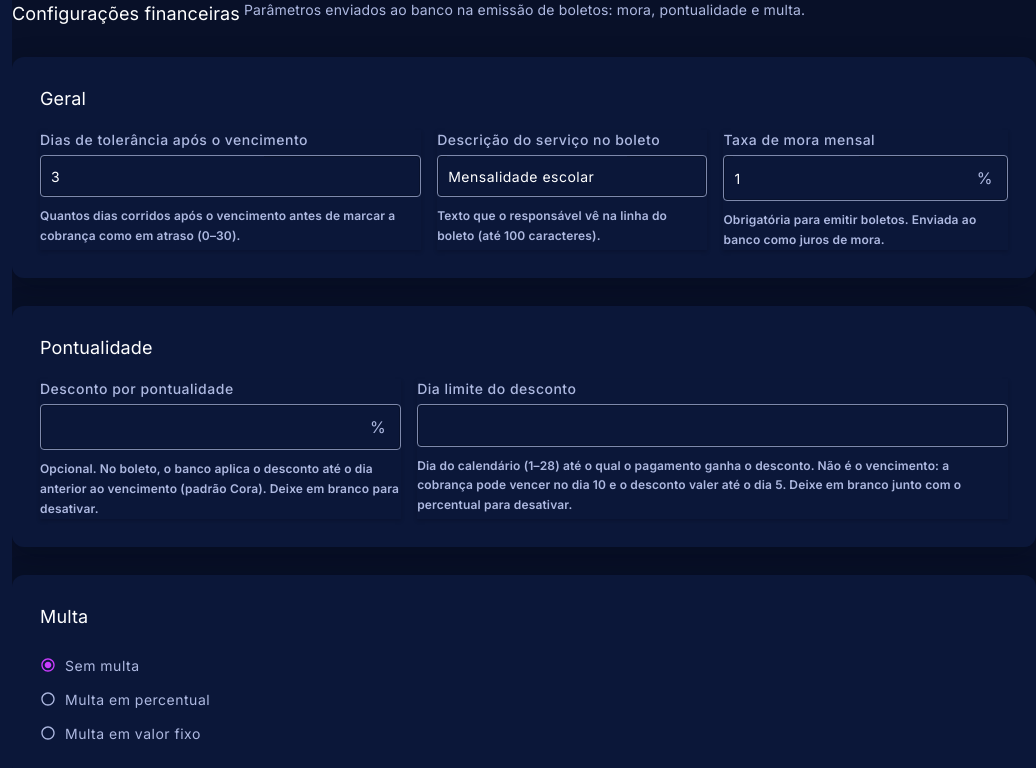
Scenario: BillingSettingsPage › shows validation errors from the API
Click the radio button labelled "Multa em percentual" at (125, 700), box [40,691,210,708]
(page scrolled)
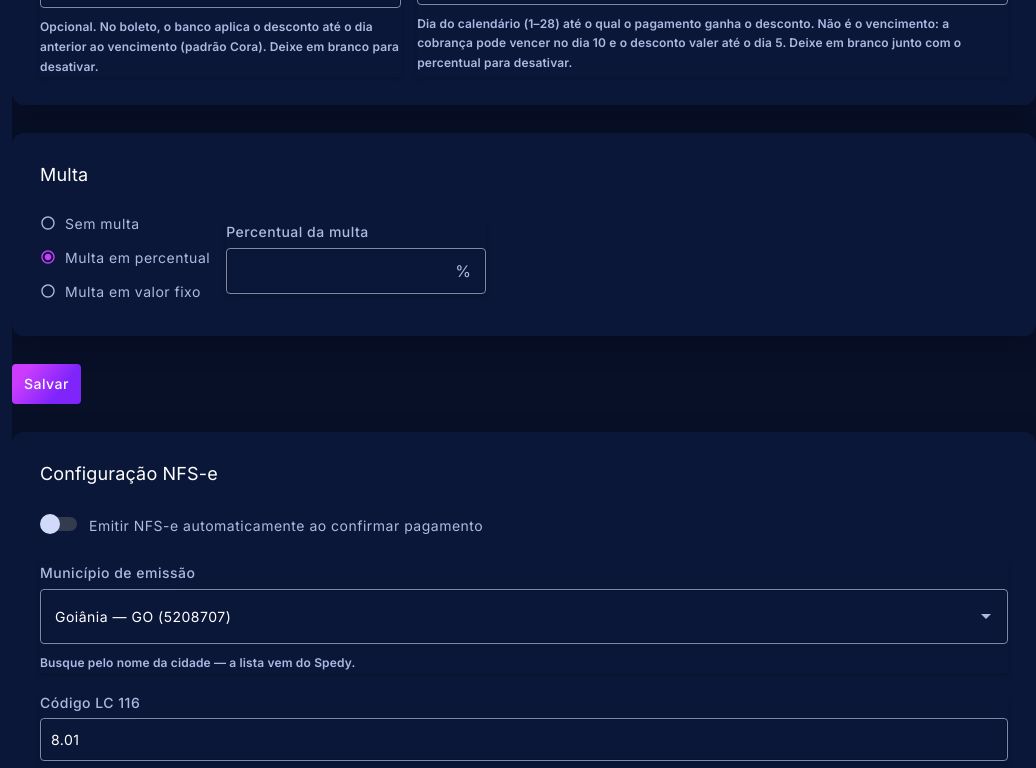
Click the button "Salvar" at (46, 384), box [12,364,81,404]
(page scrolled)
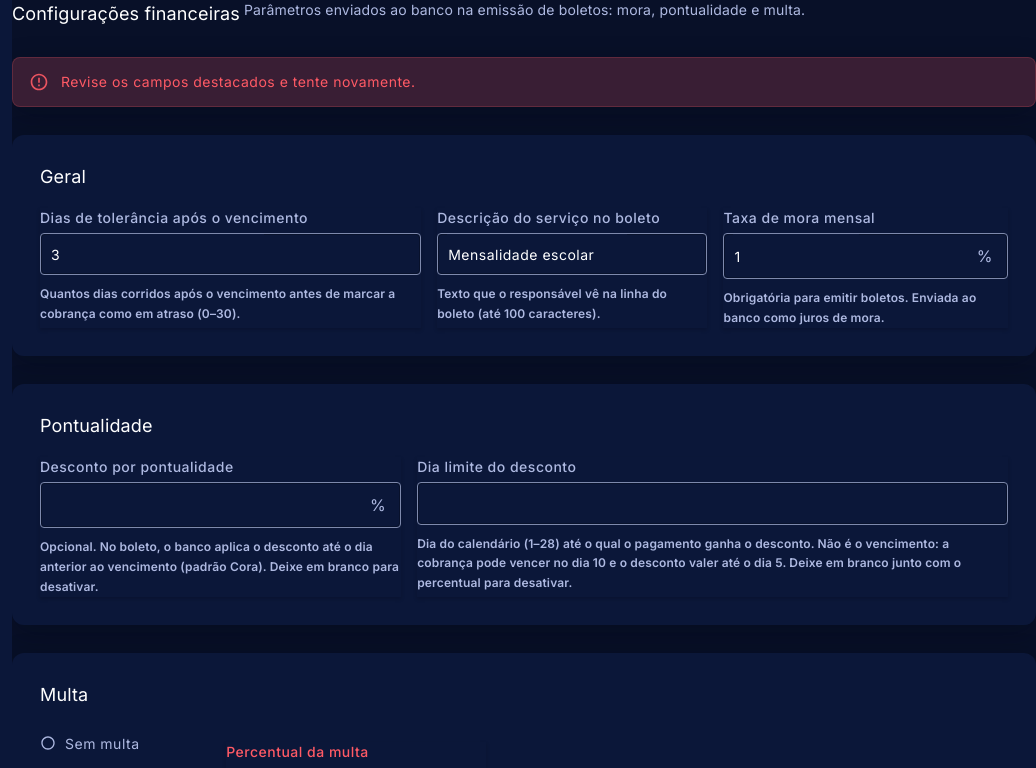
Now the text "Revise os campos destacados e tente novamente." is shown, box [61,73,416,90]
